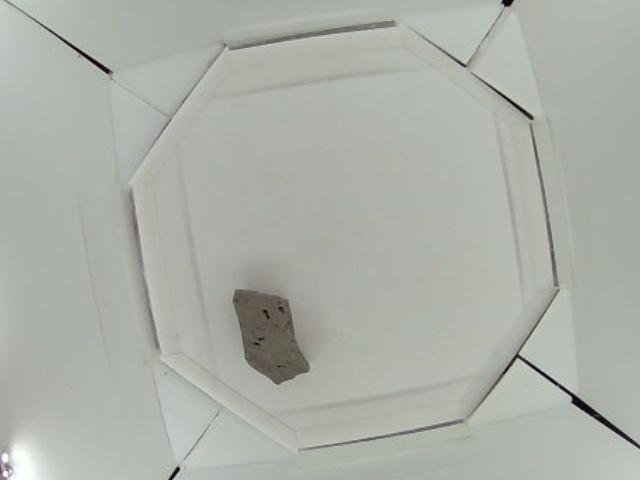China: (229, 289, 312, 383)
